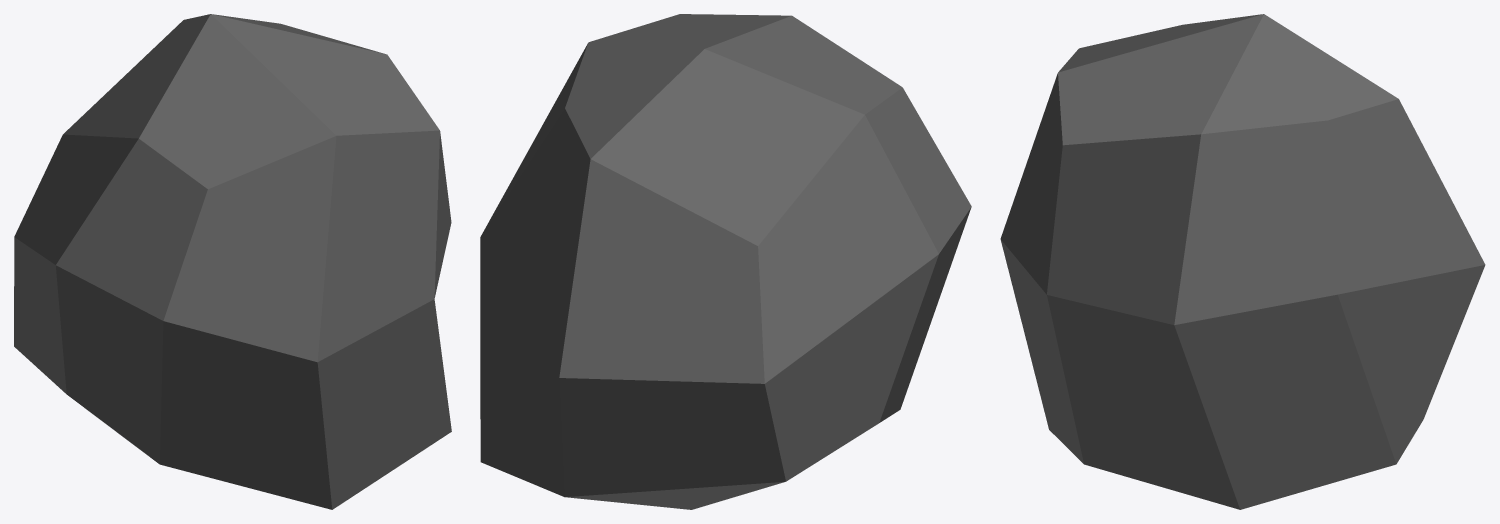
File: Boulder_Throw.fbx
3 views of the same model, side by side, from view 1: azimuth 30°, elevation 25°; view 2: azimuth 150°, elevation 25°; view 3: azimuth 270°, elevation 25° (orthographic). The views are drawn at different scales.
Visible parts, largest first — view 1: Roca; view 2: Roca; view 3: Roca.
Part boxes in pixels (x1=…): Roca: x1=14, y1=14, x2=451, y2=509; Roca: x1=480, y1=14, x2=971, y2=509; Roca: x1=1000, y1=14, x2=1485, y2=509.
Bounding box in the file's own units: 114 × 128 × 126.
